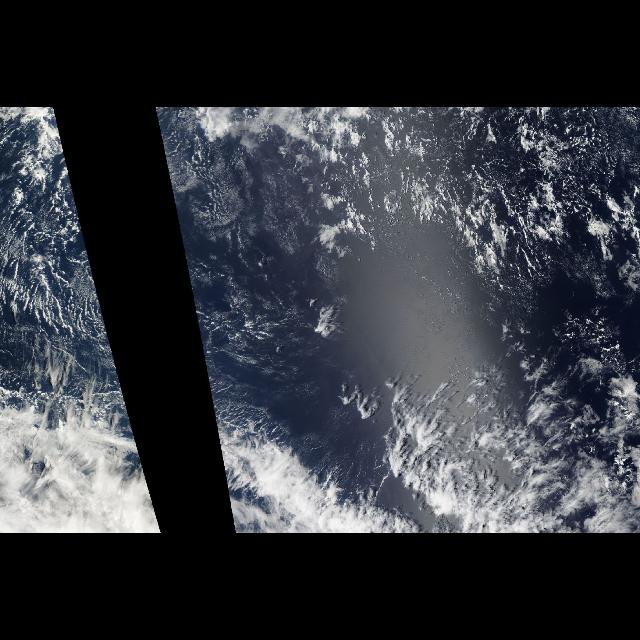Gravel: (370, 108, 636, 294)
Sugar: (175, 142, 305, 256)
